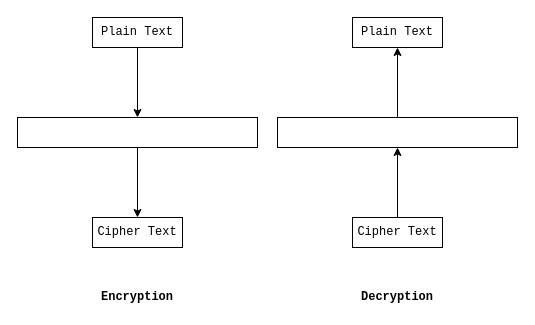
Some shapes in this 535 by 325 pixel diagram are drawn without their labels. The centre of each missing label's shape, as x and y in pixels:
"cipherText[i] = (plainText[i] + key[i])%26" goes at point 137,132.
"plainText[i] = (cipherText[i] - key[i])%26" goes at point 397,132.
